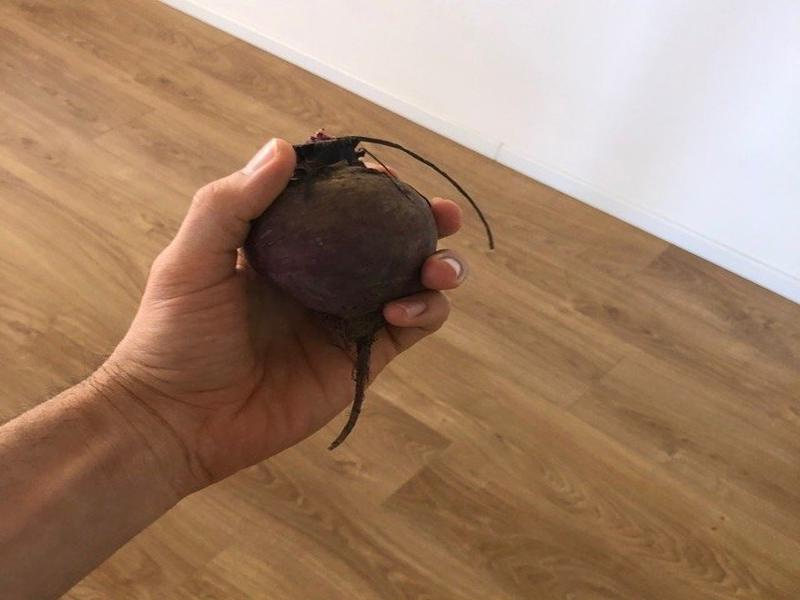Beet: (245, 129, 496, 447)
